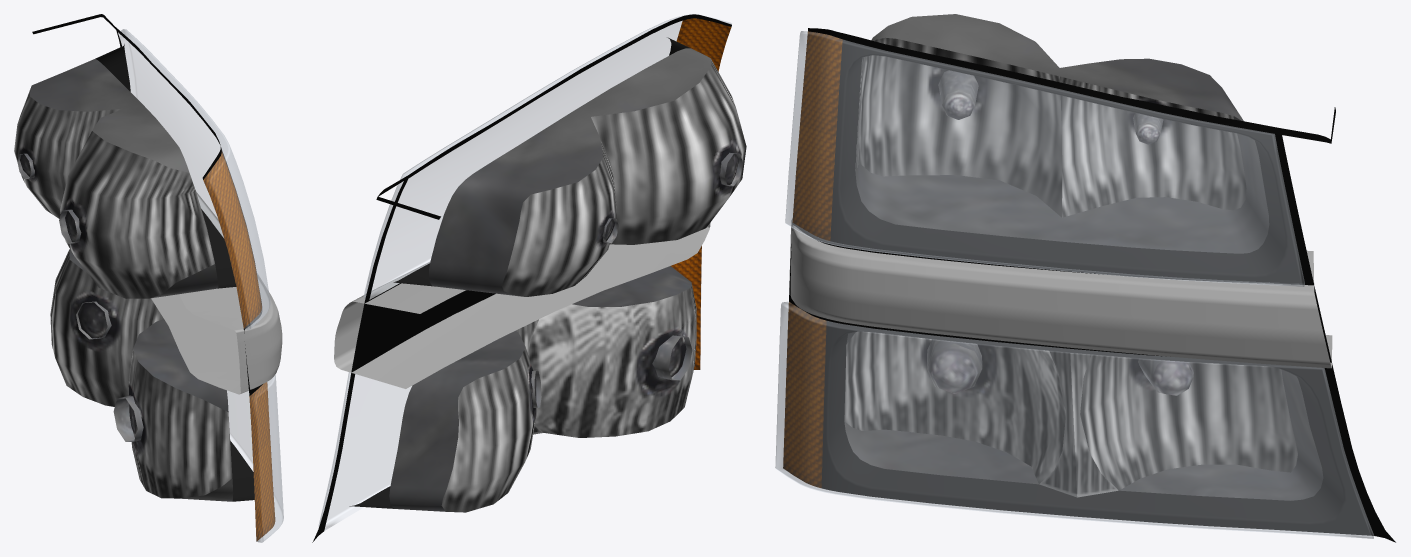
3 views of the same model, side by side, from view 1: azimuth 30°, elevation 25°; view 2: azimuth 150°, elevation 25°; view 3: azimuth 270°, elevation 25° (orthographic). The views are drawn at different scales.
Parts seen in each view (by area): view 1: U803_1A_061B_R_U803_1A_061B_R_3_N, U803_1A_061B_R_U803_1A_061B_R_1_DTaSI, U803_1A_061B_R_U803_1A_061B_R_4_DaS, U803_1A_061B_R_U803_1A_061B_R_2_DTaSI, U803_1A_061B_R_U803_1A_061B_R_5_N, U803_1A_061B_R_6_D_U803_1A_061B_R; view 2: U803_1A_061B_R_U803_1A_061B_R_3_N, U803_1A_061B_R_U803_1A_061B_R_4_DaS, U803_1A_061B_R_U803_1A_061B_R_1_DTaSI, U803_1A_061B_R_U803_1A_061B_R_2_DTaSI, U803_1A_061B_R_6_D_U803_1A_061B_R, U803_1A_061B_R_U803_1A_061B_R_5_N; view 3: U803_1A_061B_R_U803_1A_061B_R_3_N, U803_1A_061B_R_U803_1A_061B_R_2_DTaSI, U803_1A_061B_R_U803_1A_061B_R_1_DTaSI, U803_1A_061B_R_U803_1A_061B_R_5_N, U803_1A_061B_R_U803_1A_061B_R_4_DaS, U803_1A_061B_R_6_D_U803_1A_061B_R.
Part boxes in pixels (box(x1,y1,x2,y2)): U803_1A_061B_R_U803_1A_061B_R_3_N: box(14, 59, 275, 541); U803_1A_061B_R_U803_1A_061B_R_1_DTaSI: box(118, 29, 270, 329); U803_1A_061B_R_U803_1A_061B_R_4_DaS: box(151, 192, 282, 394); U803_1A_061B_R_U803_1A_061B_R_2_DTaSI: box(227, 374, 283, 542); U803_1A_061B_R_U803_1A_061B_R_5_N: box(95, 44, 261, 501); U803_1A_061B_R_6_D_U803_1A_061B_R: box(32, 14, 262, 395); U803_1A_061B_R_U803_1A_061B_R_3_N: box(389, 18, 746, 512); U803_1A_061B_R_U803_1A_061B_R_4_DaS: box(334, 222, 710, 388); U803_1A_061B_R_U803_1A_061B_R_1_DTaSI: box(364, 14, 731, 299); U803_1A_061B_R_U803_1A_061B_R_2_DTaSI: box(318, 249, 701, 530); U803_1A_061B_R_6_D_U803_1A_061B_R: box(312, 14, 731, 542); U803_1A_061B_R_U803_1A_061B_R_5_N: box(349, 37, 690, 508); U803_1A_061B_R_U803_1A_061B_R_3_N: box(783, 14, 1323, 500); U803_1A_061B_R_U803_1A_061B_R_2_DTaSI: box(775, 301, 1374, 538); U803_1A_061B_R_U803_1A_061B_R_1_DTaSI: box(785, 31, 1304, 286); U803_1A_061B_R_U803_1A_061B_R_5_N: box(821, 39, 1373, 535); U803_1A_061B_R_U803_1A_061B_R_4_DaS: box(789, 219, 1332, 368); U803_1A_061B_R_6_D_U803_1A_061B_R: box(789, 28, 1395, 542).
Size of the model in its own units: 18.38 by 28.06 by 36.11.
